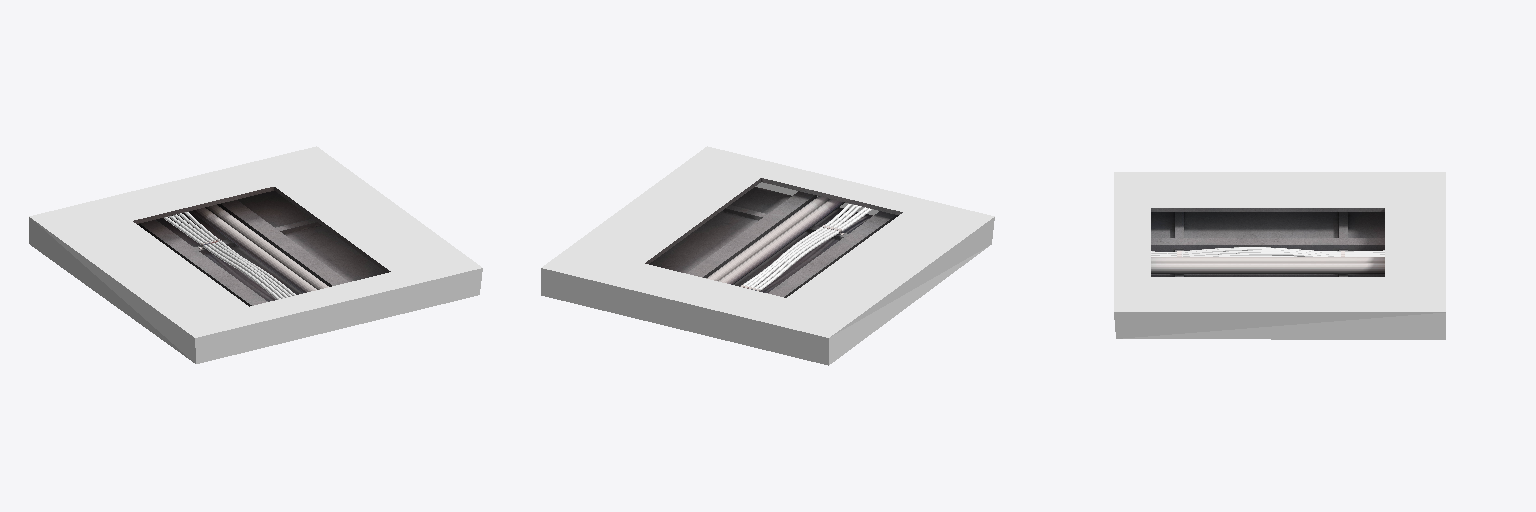
3 views of the same model, side by side, from view 1: azimuth 30°, elevation 25°; view 2: azimuth 150°, elevation 25°; view 3: azimuth 270°, elevation 25° (orthographic).
Visible parts, largest first — view 1: WALL_out, WALL_B, pipe, cable, WALL_A; view 2: WALL_out, WALL_B, pipe, cable, WALL_A; view 3: WALL_out, WALL_B, pipe, cable, WALL_A.
Boxes of the visible parts, box(x1,y1,x2,y2) form: WALL_out: box(29, 146, 482, 363); WALL_B: box(137, 191, 385, 306); pipe: box(191, 205, 328, 292); cable: box(164, 212, 295, 299); WALL_A: box(133, 187, 390, 272); WALL_out: box(541, 146, 994, 365); WALL_B: box(649, 187, 898, 297); pipe: box(706, 196, 844, 284); cable: box(743, 204, 872, 290); WALL_A: box(645, 178, 902, 263); WALL_out: box(1114, 172, 1445, 339); WALL_B: box(1151, 212, 1384, 276); pipe: box(1151, 257, 1384, 273); cable: box(1151, 247, 1384, 256); WALL_A: box(1151, 208, 1384, 211).
Bounding box in the file's own units: 142 × 13 × 142.
Materials: 6 (4 with a texture image).